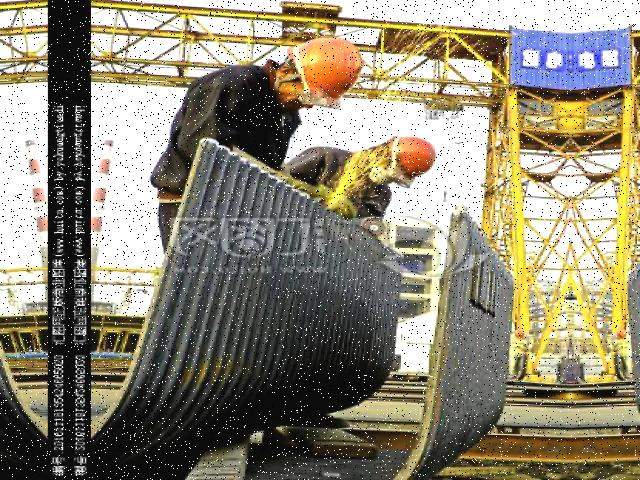Helmet: (283, 31, 370, 113), (376, 132, 441, 190)
